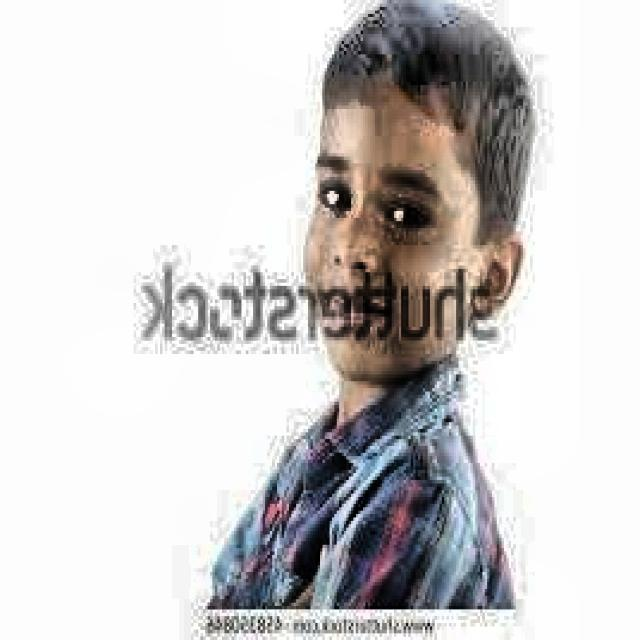Human: (213, 21, 545, 624)
